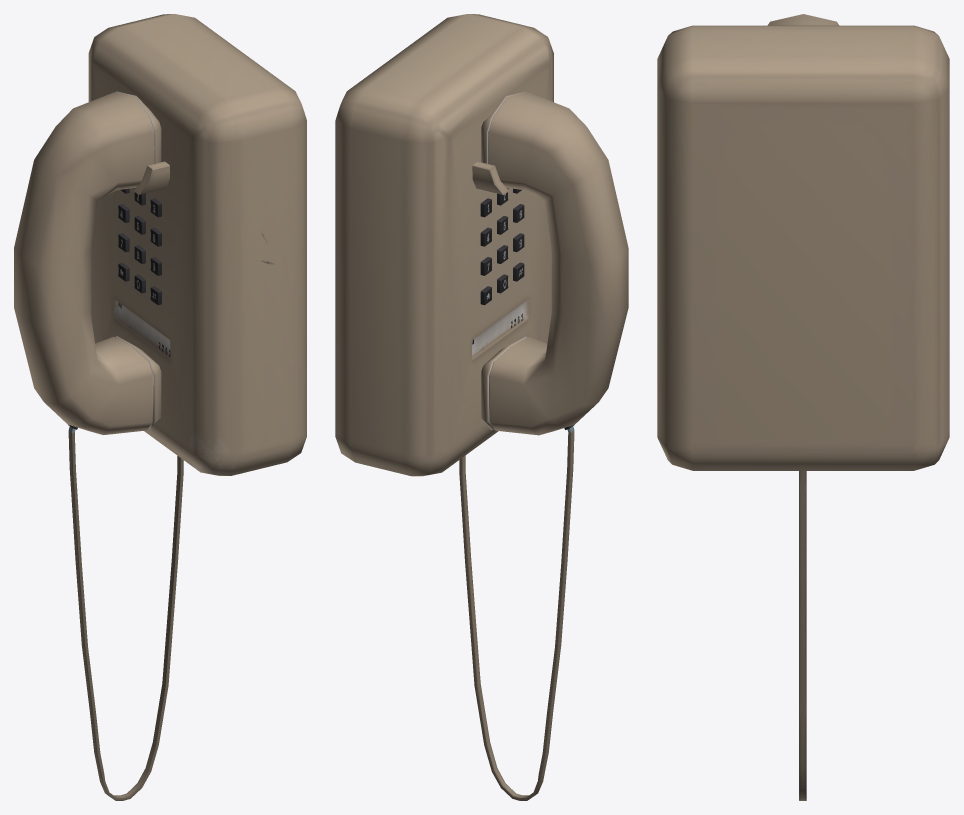
Rendered from officephone.gltf.
The picture shows the model from 3 angles, left to right: view 1: azimuth 30°, elevation 25°; view 2: azimuth 150°, elevation 25°; view 3: azimuth 270°, elevation 25°; orthographic projection. The views are drawn at different scales.
Parts seen in each view (by area): view 1: pCube27; view 2: pCube27; view 3: pCube27.
Boxes of the visible parts, x1,y1,x2,y2 form: pCube27: (14,14,306,800); pCube27: (335,14,628,800); pCube27: (657,14,949,800).
Size of the model in its own units: 3.3 by 9.87 by 3.28.
Materials: 1 (1 with a texture image).
